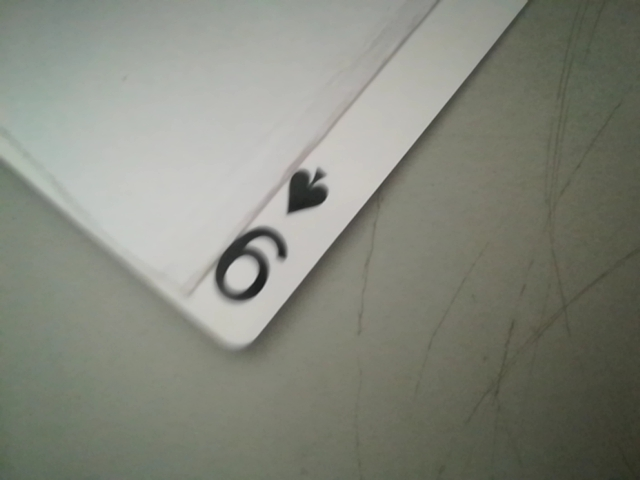ht 9: (195, 161, 342, 330)
